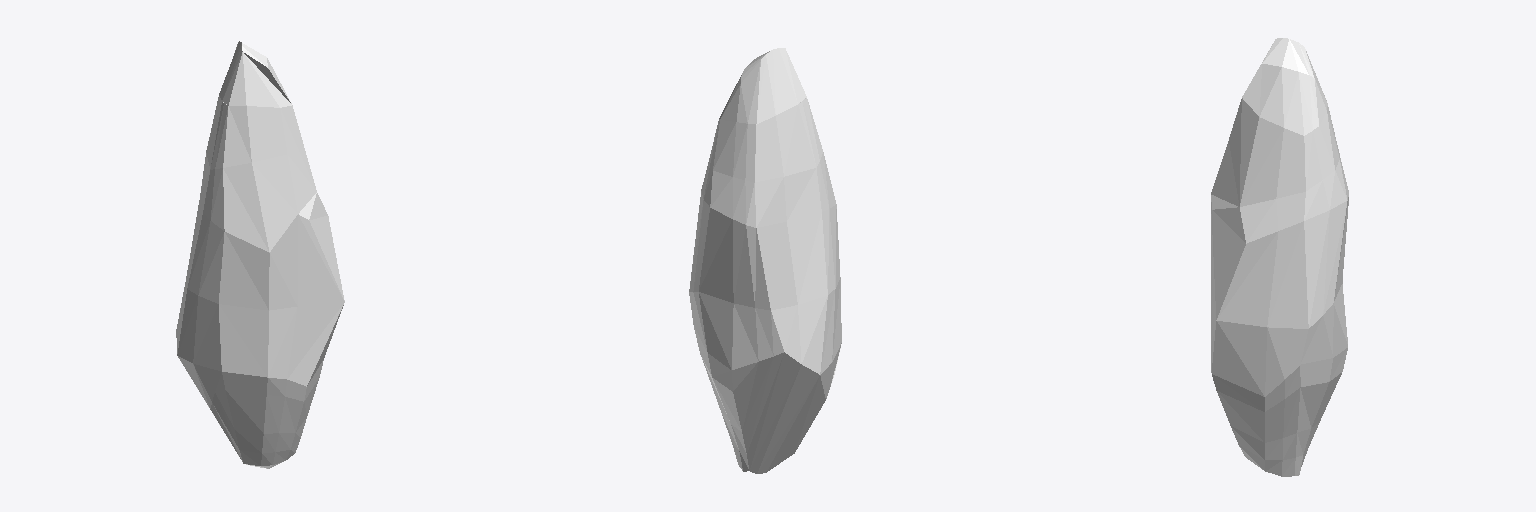
3 views of the same model, side by side, from view 1: azimuth 30°, elevation 25°; view 2: azimuth 150°, elevation 25°; view 3: azimuth 270°, elevation 25° (orthographic).
Visible parts, largest first — view 1: RetopoGroup1; view 2: RetopoGroup1; view 3: RetopoGroup1.
Boxes of the visible parts, x1,y1,x2,y2 form: RetopoGroup1: [176, 41, 344, 468]; RetopoGroup1: [689, 48, 841, 473]; RetopoGroup1: [1211, 38, 1348, 476].
Bounding box in the file's own units: 180 × 558 × 165.